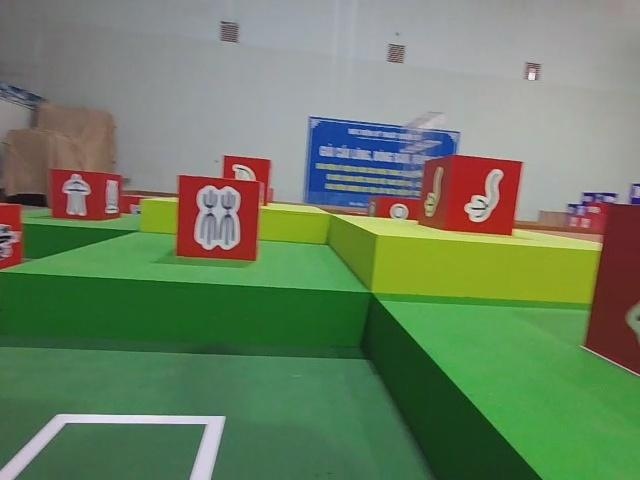R1: (0, 206, 25, 269)
R2 Fake: (178, 173, 261, 264), (50, 169, 123, 223)
R2 Real: (425, 156, 522, 235)
